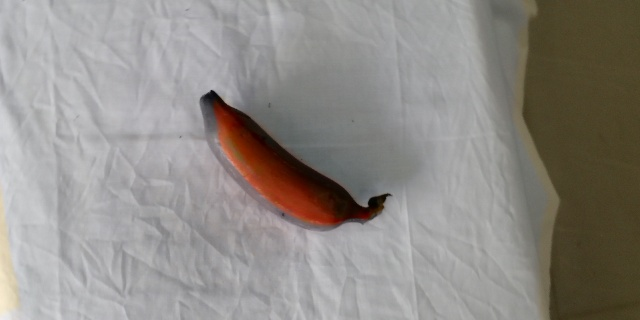banana_red: (205, 91, 396, 234)
